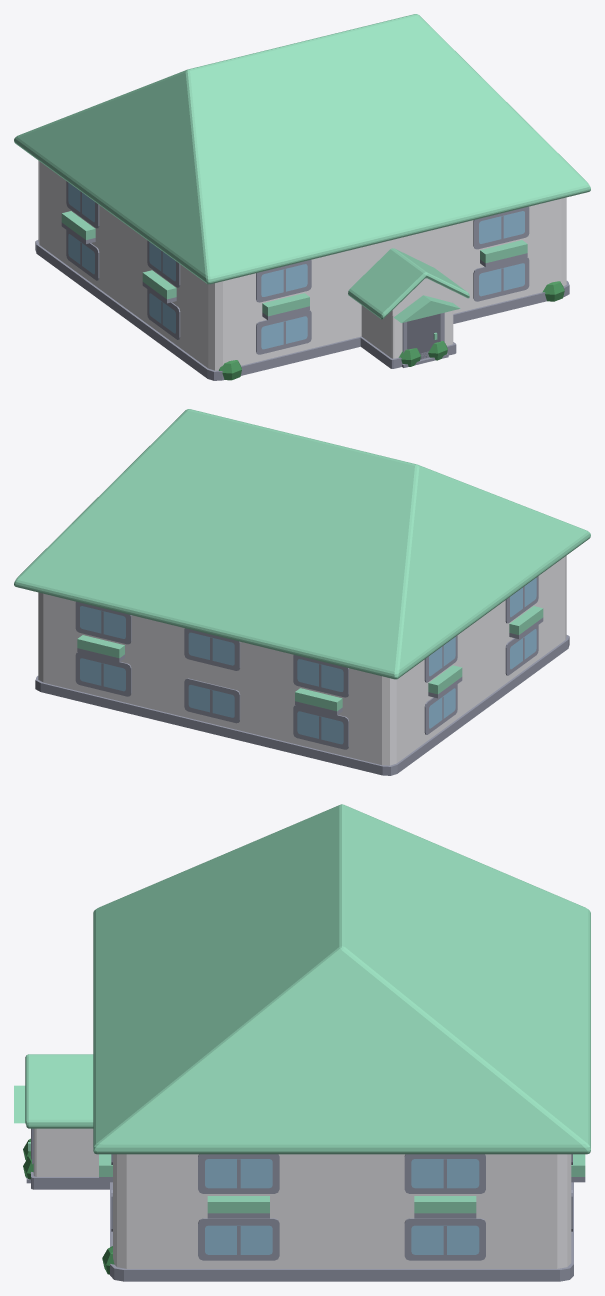
Rendered from house-2x2-2f-tone-a.glb.
The picture shows the model from 3 angles, top to bottom: view 1: azimuth 30°, elevation 25°; view 2: azimuth 150°, elevation 25°; view 3: azimuth 270°, elevation 25°; orthographic projection. The views are drawn at different scales.
Visible parts, largest first — view 1: house-2x2-2f-tone-a; view 2: house-2x2-2f-tone-a; view 3: house-2x2-2f-tone-a.
Part boxes in pixels (x1,y1,x2,y2): house-2x2-2f-tone-a: (14, 14, 590, 380); house-2x2-2f-tone-a: (14, 409, 590, 775); house-2x2-2f-tone-a: (14, 804, 590, 1281).
Bounding box in the file's own units: 2 × 1.15 × 2.04.
1 material, 1 textured.
